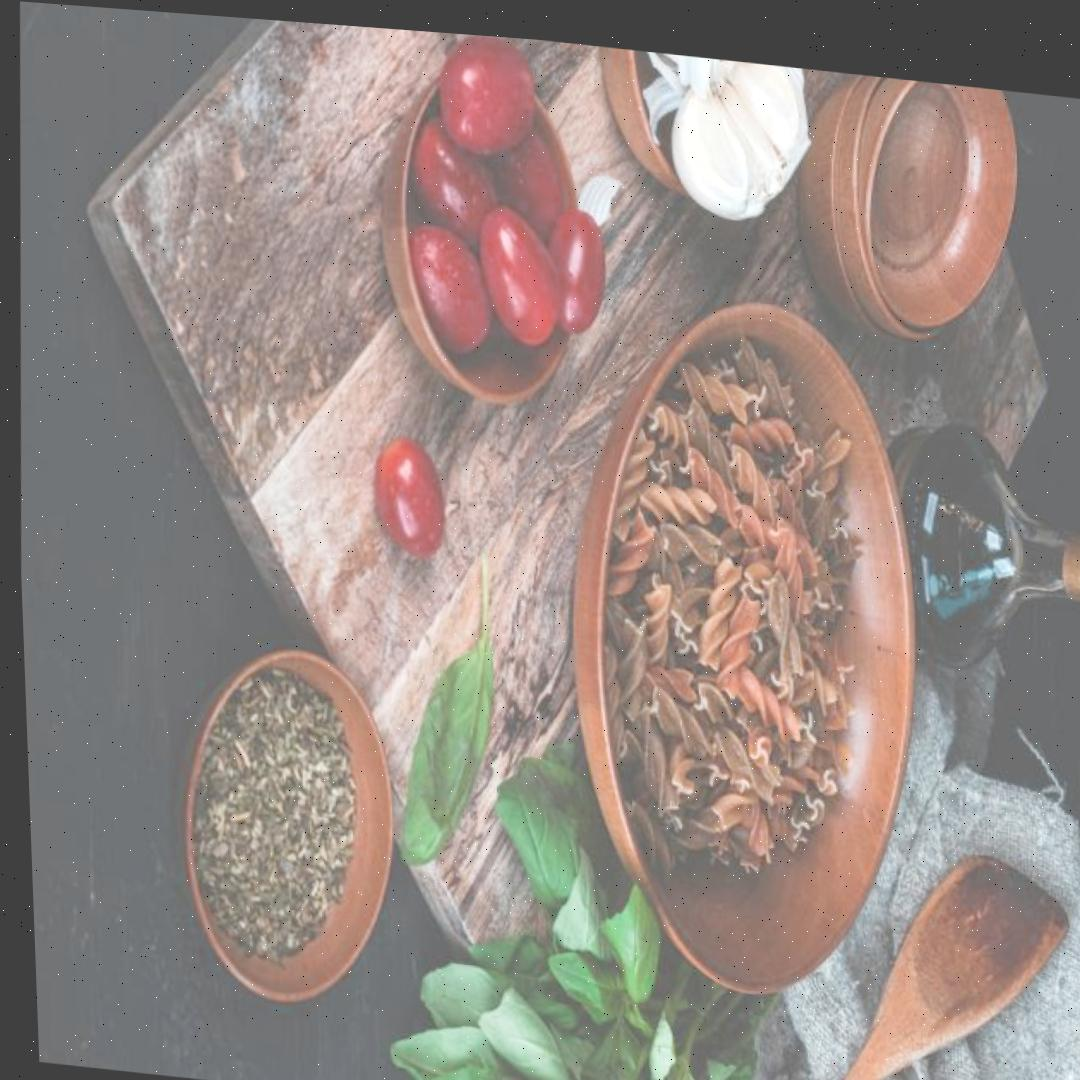matang: (401, 104, 503, 254), (396, 217, 494, 359), (431, 32, 539, 160), (474, 203, 564, 348), (536, 203, 610, 337), (373, 437, 449, 564)
